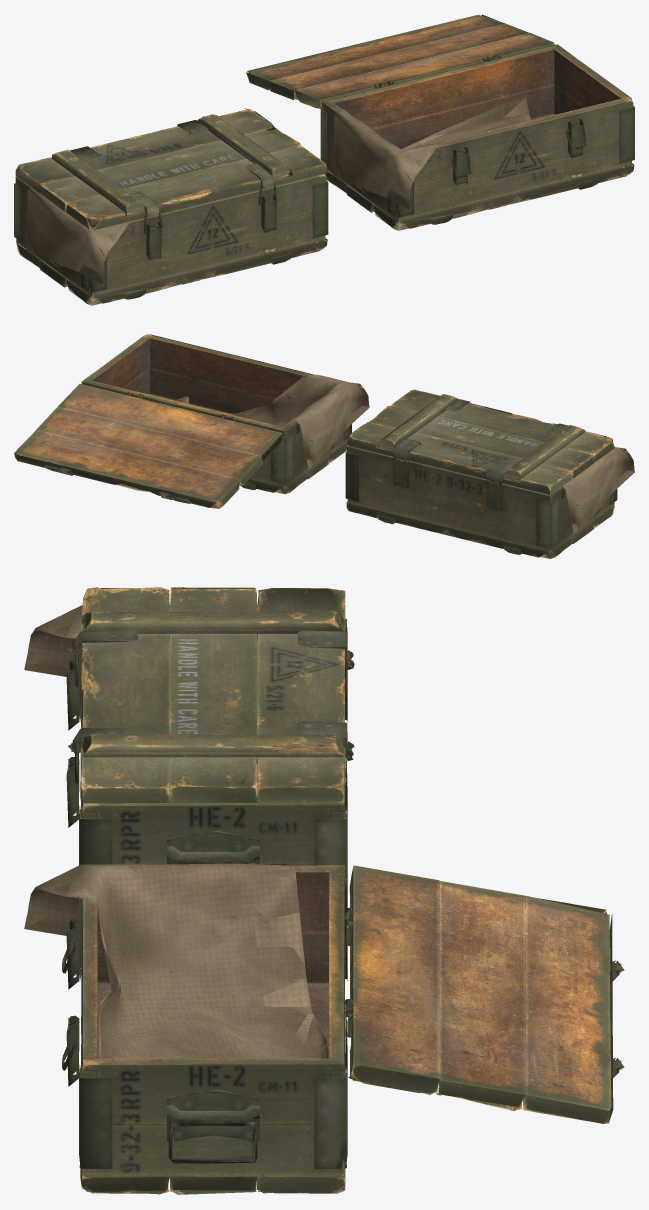
Rendered from old_military_crate.glb.
3 renders of one model, top to bottom at view 1: azimuth 30°, elevation 25°; view 2: azimuth 150°, elevation 25°; view 3: azimuth 270°, elevation 25°, orthographic. The views are drawn at different scales.
Visible parts, largest first — view 1: old_military_crate_b, old_military_crate_lid_a, old_military_crate_a, old_military_crate_lid_b, old_military_crate_cloth_b, old_military_crate_cloth_a, old_military_crate_latch_a, old_military_crate_latch_b; view 2: old_military_crate_lid_b, old_military_crate_lid_a, old_military_crate_a, old_military_crate_b, old_military_crate_cloth_b, old_military_crate_cloth_a; view 3: old_military_crate_lid_a, old_military_crate_lid_b, old_military_crate_b, old_military_crate_cloth_b, old_military_crate_a, old_military_crate_cloth_a, old_military_crate_latch_a, old_military_crate_latch_b.
Part boxes in pixels (x1,y1,x2,y2): old_military_crate_b: [320, 44, 634, 230]; old_military_crate_lid_a: [15, 108, 327, 230]; old_military_crate_a: [14, 174, 328, 305]; old_military_crate_lid_b: [246, 14, 554, 108]; old_military_crate_cloth_b: [334, 95, 531, 209]; old_military_crate_cloth_a: [27, 187, 130, 284]; old_military_crate_latch_a: [146, 193, 276, 261]; old_military_crate_latch_b: [453, 119, 583, 186]; old_military_crate_lid_b: [14, 383, 282, 508]; old_military_crate_lid_a: [347, 389, 614, 494]; old_military_crate_a: [345, 445, 617, 558]; old_military_crate_b: [81, 334, 351, 494]; old_military_crate_cloth_b: [174, 374, 369, 470]; old_military_crate_cloth_a: [563, 447, 634, 534]; old_military_crate_lid_a: [67, 587, 354, 803]; old_military_crate_lid_b: [344, 865, 624, 1123]; old_military_crate_b: [79, 865, 353, 1194]; old_military_crate_cloth_b: [24, 863, 328, 1058]; old_military_crate_a: [79, 618, 353, 889]; old_military_crate_cloth_a: [24, 605, 258, 798]; old_military_crate_latch_a: [66, 659, 79, 827]; old_military_crate_latch_b: [66, 918, 79, 1086].
Bounding box in the file's own units: 1.81 × 0.3005 × 0.9802.
Materials: 1 (1 with a texture image).
